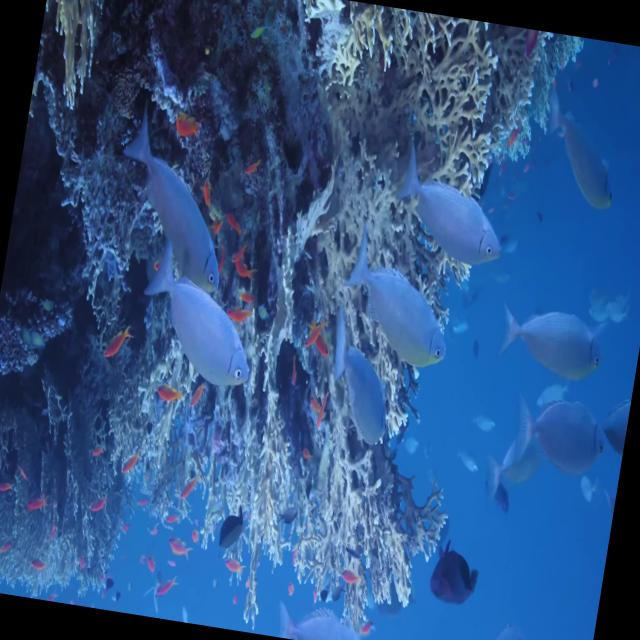fish: (108, 118, 245, 300), (128, 250, 266, 390), (338, 228, 468, 374), (390, 144, 526, 272), (537, 85, 634, 219), (498, 378, 618, 482), (313, 316, 403, 454), (491, 298, 612, 394), (422, 540, 488, 613)
